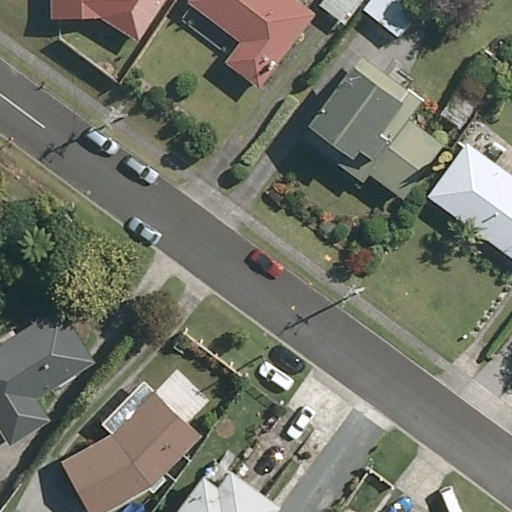DT: (98, 103, 131, 136), (335, 281, 370, 311)
